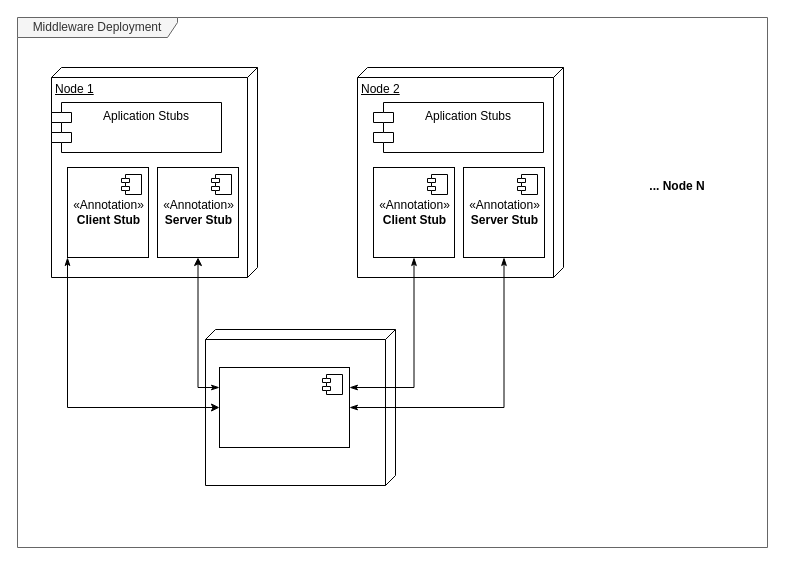
This 785x565 diagram has some shape labels left out. Each missing label, with the box of its shape:
Node 3: (204, 328, 396, 486)
«Annotation» Name Service: (218, 366, 350, 448)
